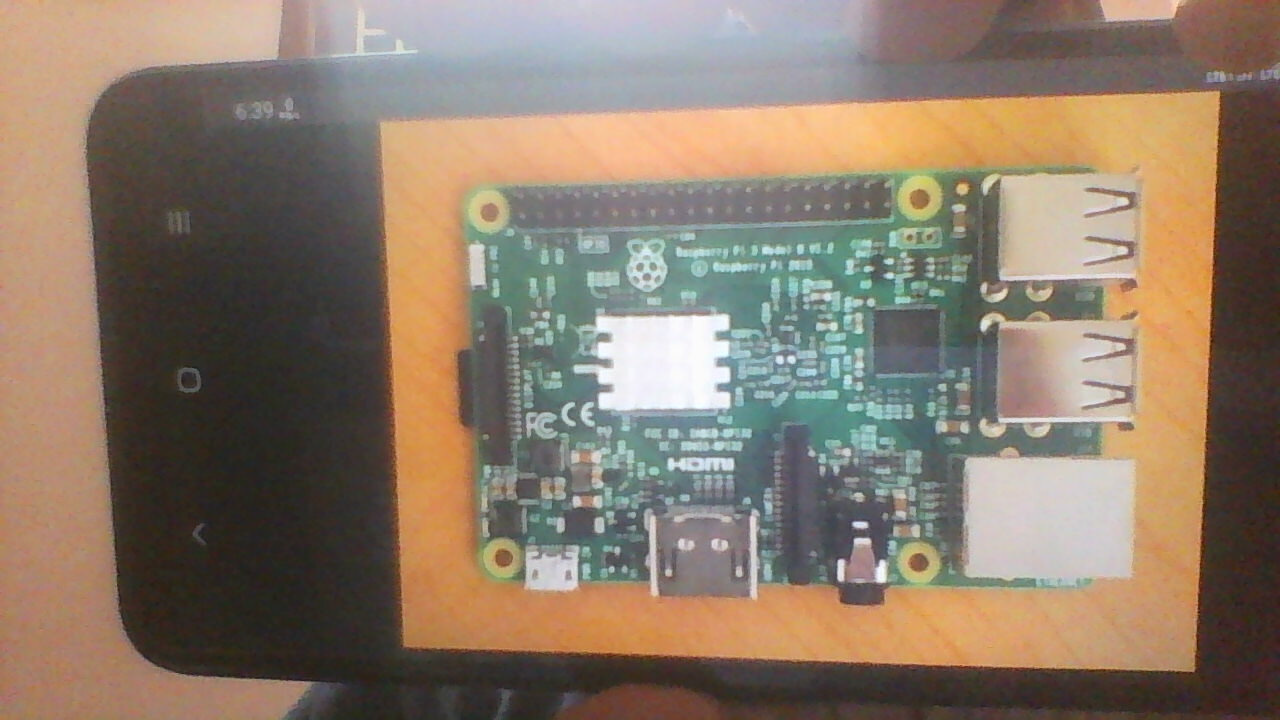aud: (830, 489, 893, 614)
eth: (955, 453, 1144, 587)
usb: (983, 169, 1149, 293), (982, 311, 1145, 430)
